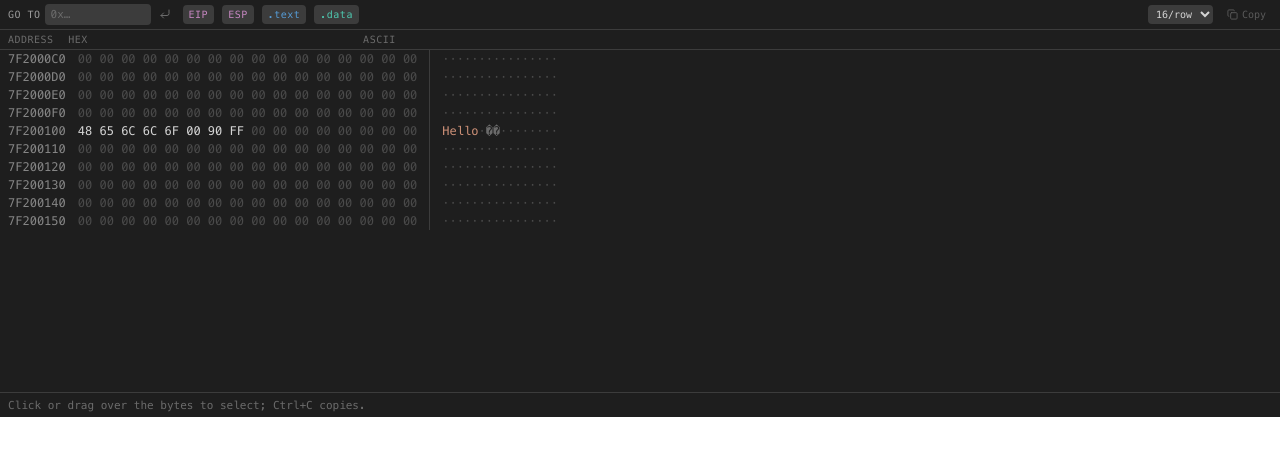
Test: atalhos de navegação › .text leva ao início do código
This screenshot has width=1280, height=452.
Click the button ".data" at (337,14), box [314, 5, 359, 24]
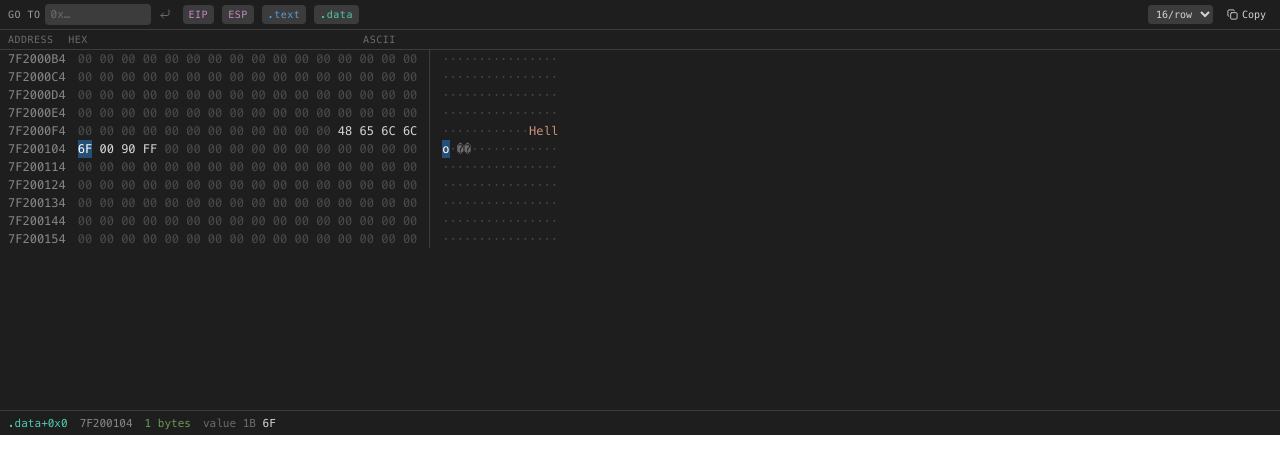
Click the button ".text" at (284,14), box [262, 5, 306, 24]
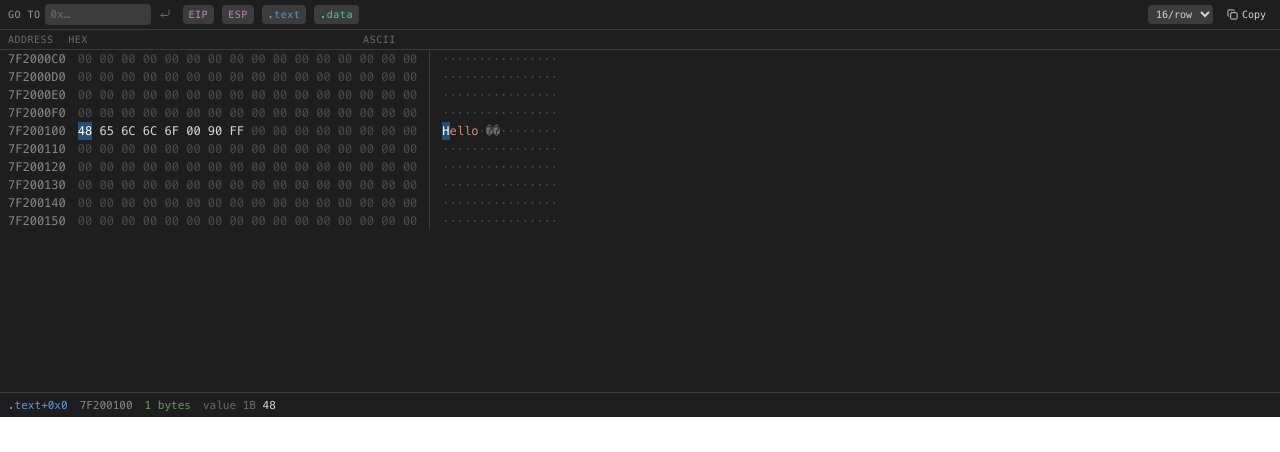
Expected: the footer shows "7F200100", [80, 398, 133, 412]
Expected: the footer shows ".text+0x0", [0, 392, 1279, 417]
